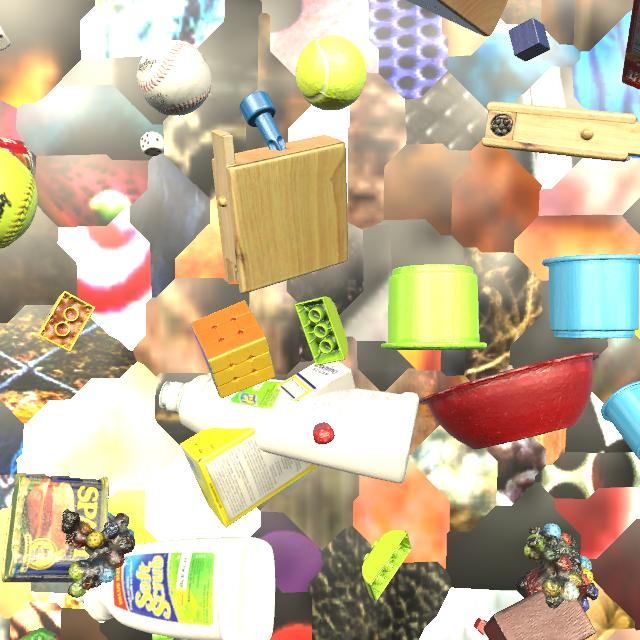ycb_003_cracker_box: (622, 0, 640, 90)
ycb_004_sugar_box: (180, 361, 356, 528)
ycb_005_tomato_soup_can: (0, 137, 35, 178)
ycb_010_potted_meat_can: (2, 474, 109, 583)
ycb_012_strawberry: (20, 627, 59, 640)
